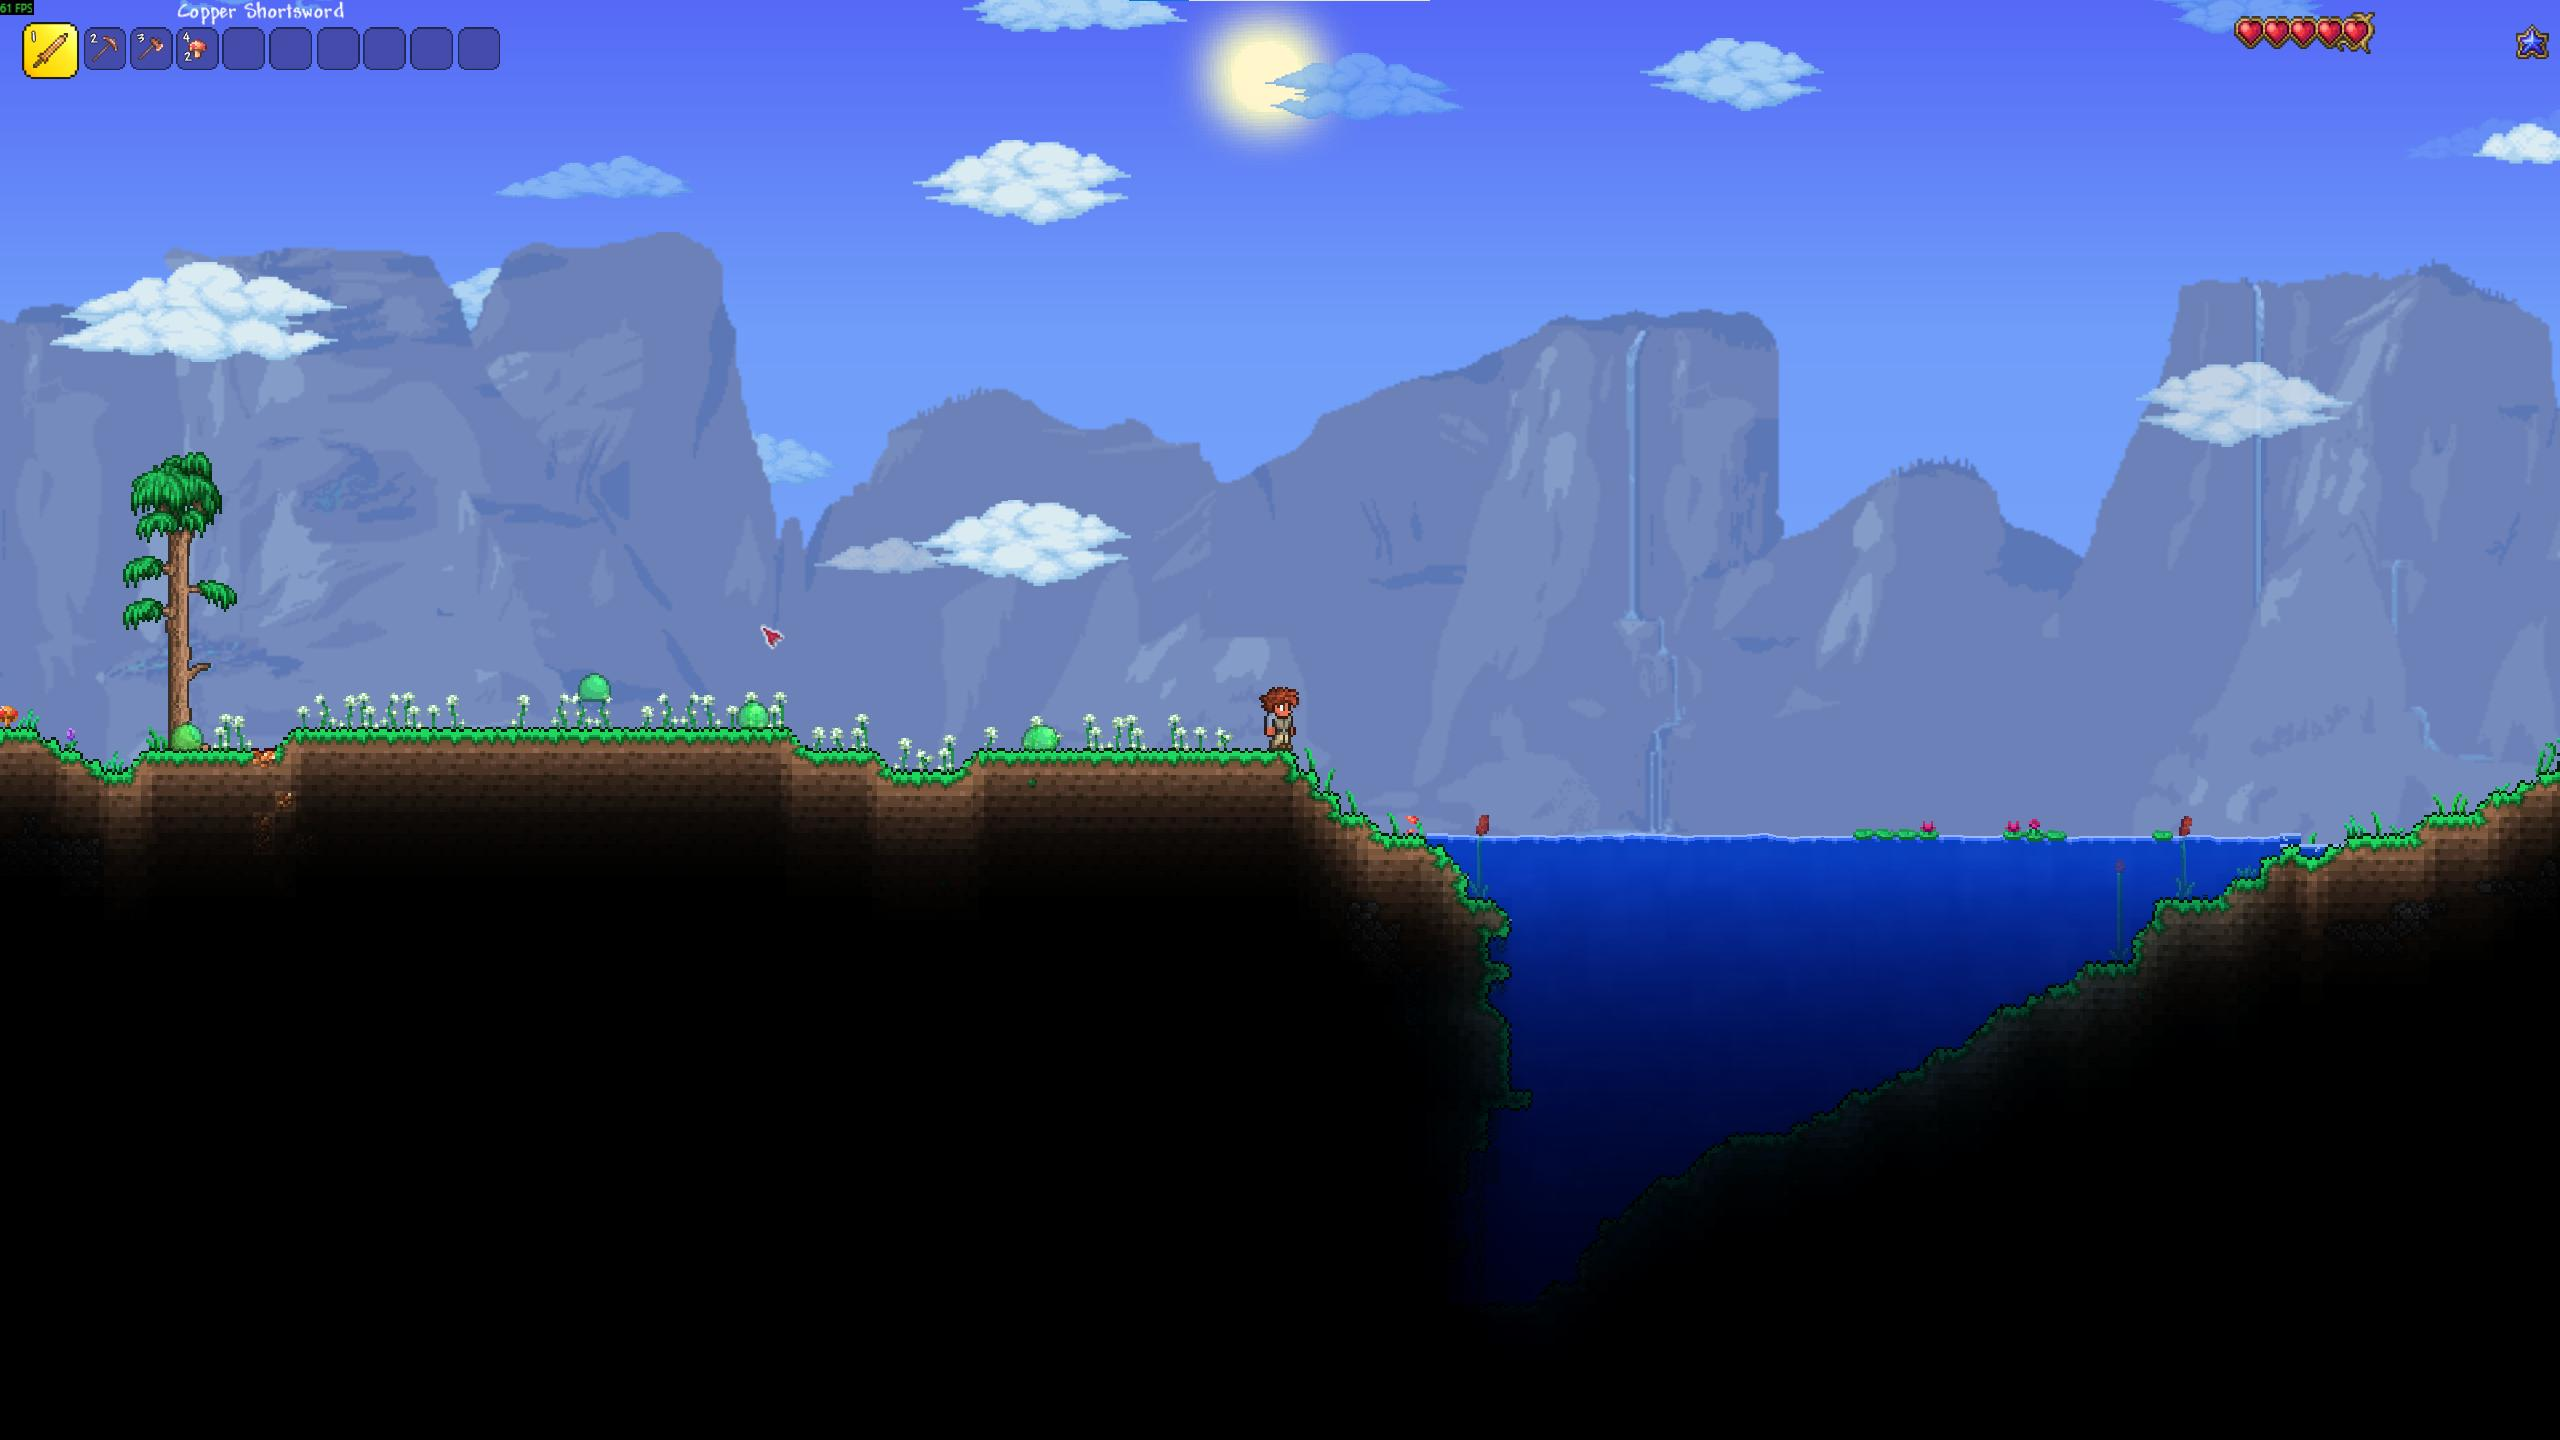Green Slime: (165, 717, 207, 758), (573, 670, 617, 709), (1020, 717, 1064, 756), (733, 698, 772, 733)
